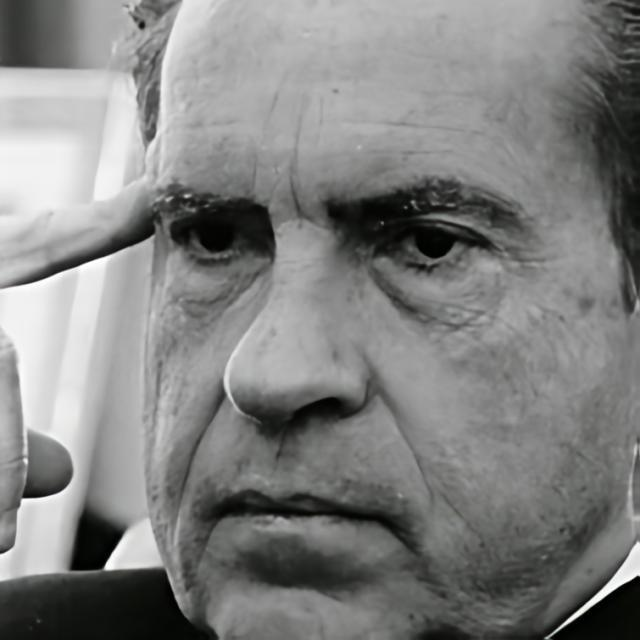anger: (134, 0, 619, 619)
